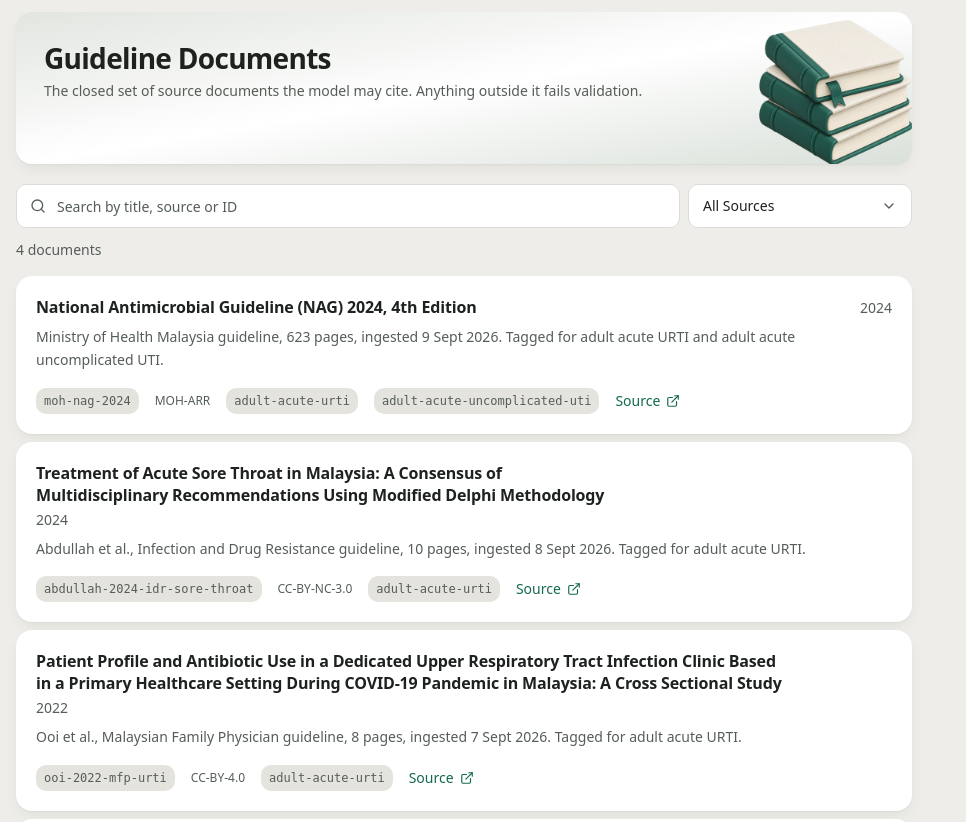
Scenario: the document list › filters to only Malaysian Clinical Practice Guidelines documents
Expected: the heading "National Antimicrobial Guideline (NAG) 2024, 4th Edition" is shown, [36, 296, 476, 318]
Click the button named "Filter by source". click: (800, 206)
box: [688, 184, 912, 228]
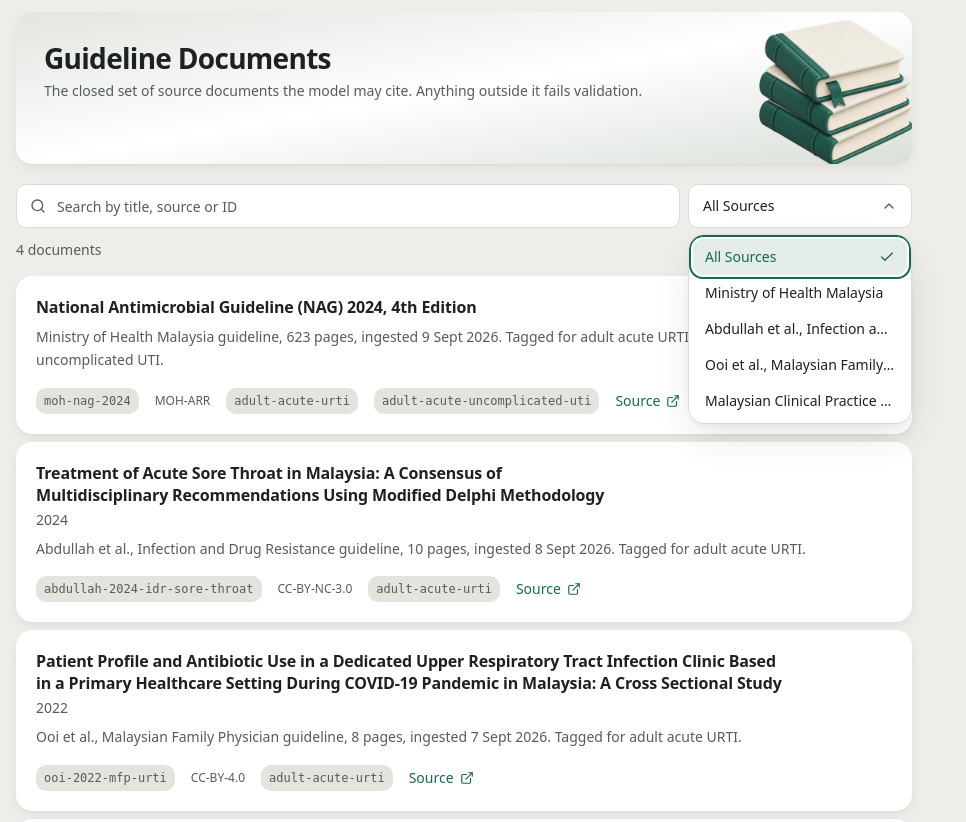
Click the option "Malaysian Clinical Practice Guidelines". click: (827, 400)
box: [705, 391, 950, 410]
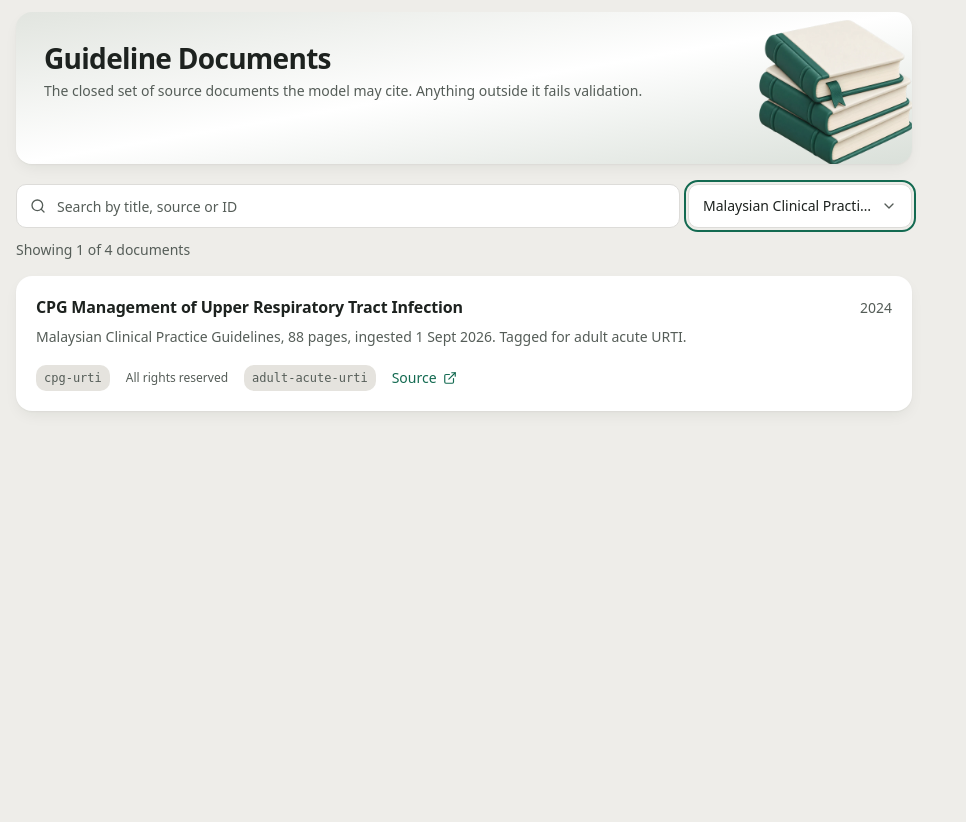
Now the heading "National Antimicrobial Guideline (NAG) 2024, 4th Edition" is gone
Now the heading "Treatment of Acute Sore Throat in Malaysia: A Consensus of Multidisciplinary Recommendations Using Modified Delphi Metho" is gone
Now the heading "Patient Profile and Antibiotic Use in a Dedicated Upper Respiratory Tract Infection Clinic Based in a Primary Healthcare" is gone
